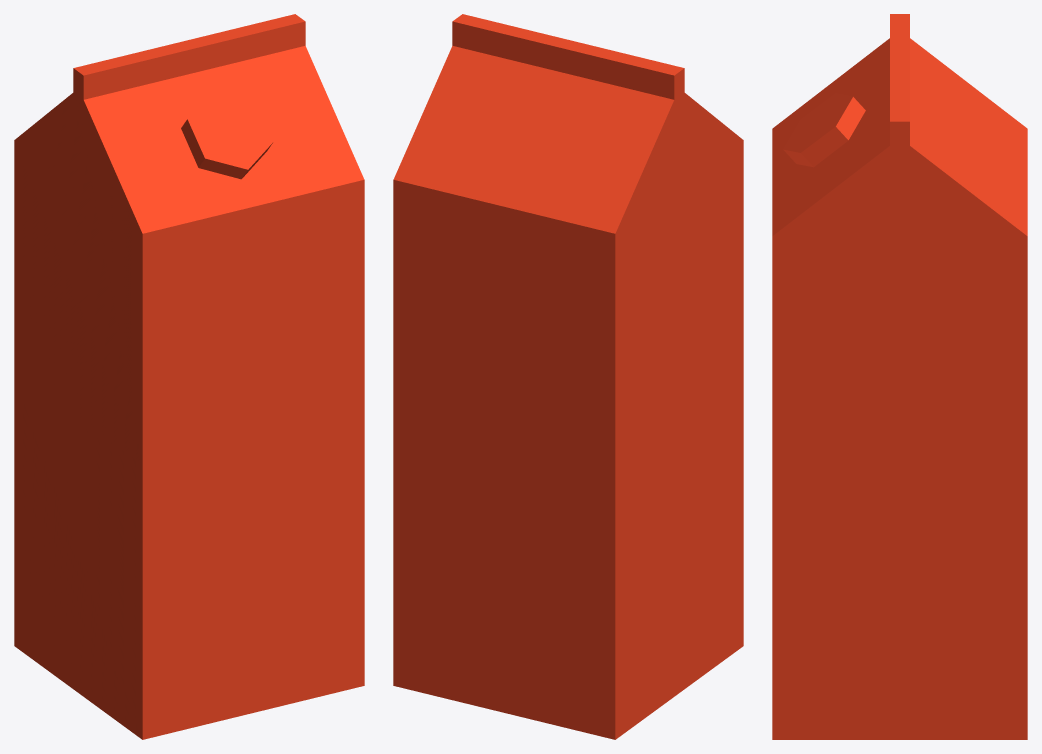
Rendered from SM_Milk_City.fbx.
3 views of the same model, side by side, from view 1: azimuth 30°, elevation 25°; view 2: azimuth 150°, elevation 25°; view 3: azimuth 270°, elevation 25° (orthographic).
Visible parts, largest first — view 1: SM_Milk_City; view 2: SM_Milk_City; view 3: SM_Milk_City.
Boxes of the visible parts, x1,y1,x2,y2 form: SM_Milk_City: [14, 14, 364, 739]; SM_Milk_City: [393, 14, 743, 739]; SM_Milk_City: [772, 14, 1027, 739].
Size of the model in its own units: 0.0991 by 0.2652 by 0.0991.
